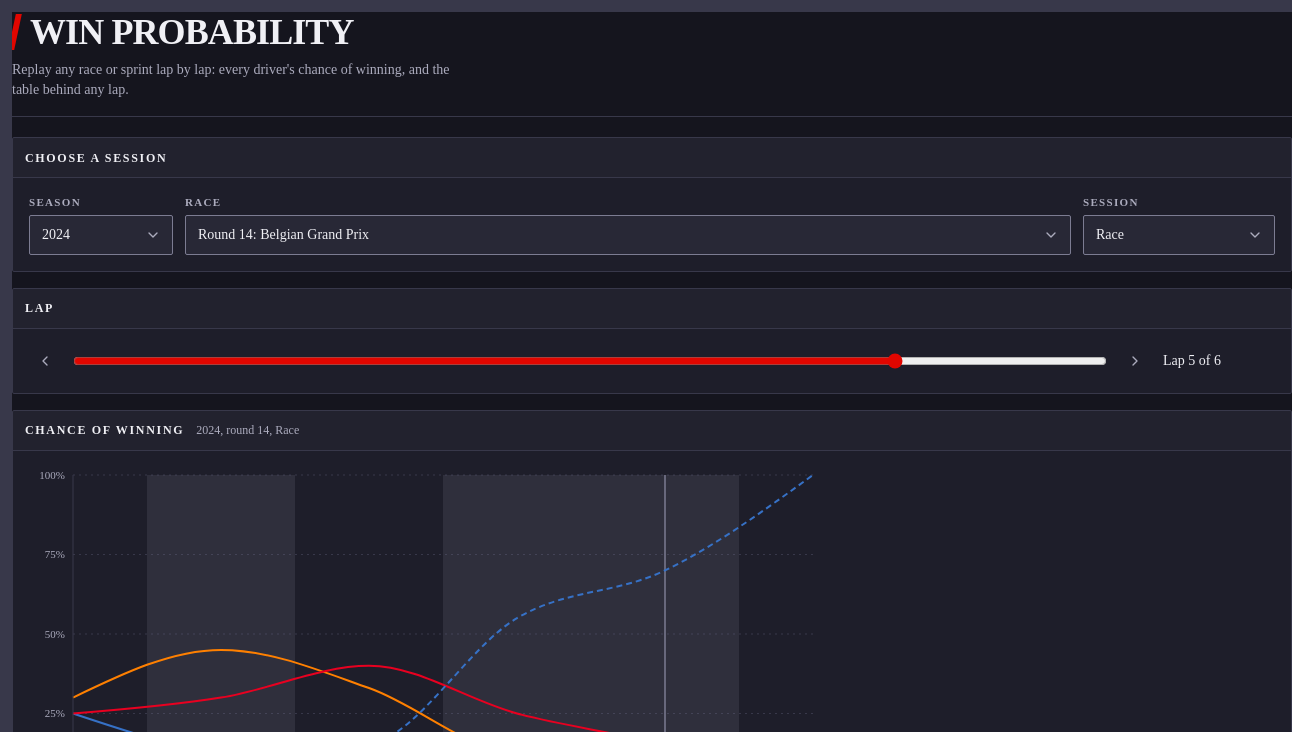
Test: WinProbPage › can step to the final lap, where the stepper stops
Expected: the text "Lap 5 of 6" is shown, [1163,352,1221,368]
Click the button named "Next lap" at (1135, 360), box [1119,344,1151,376]
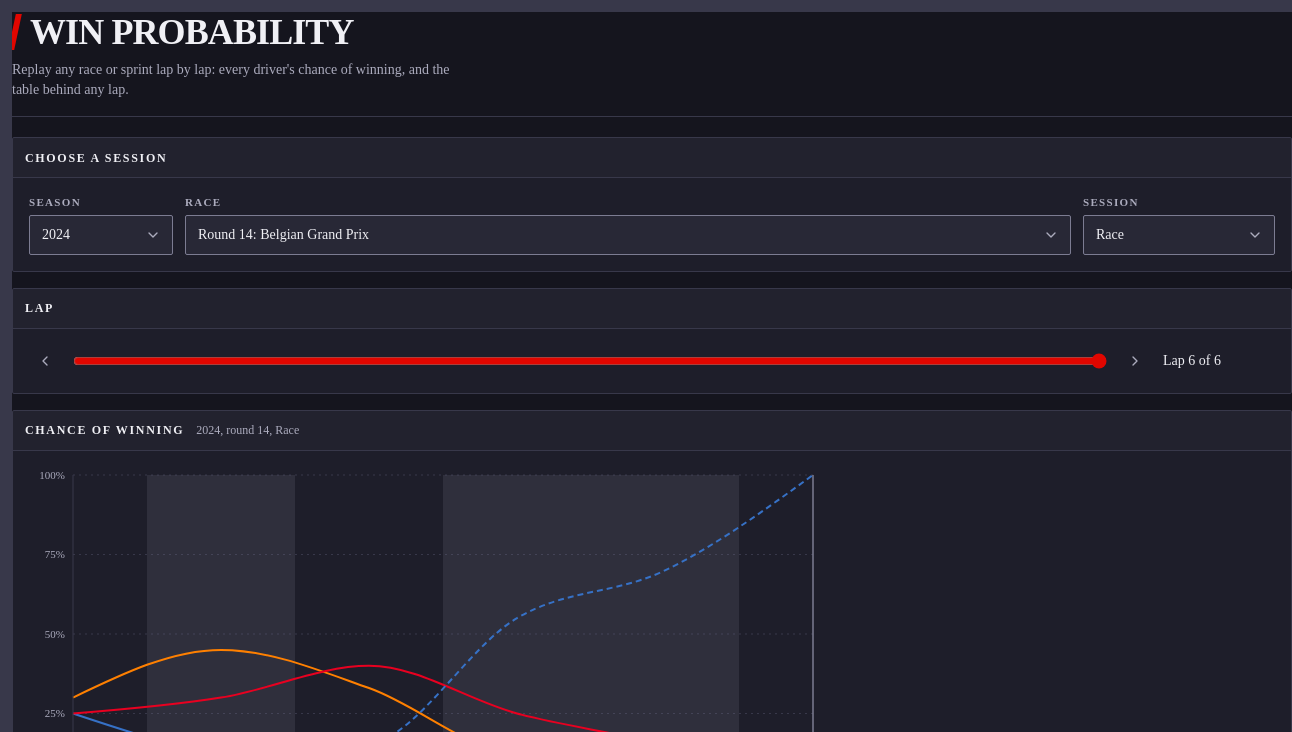
Expected: the text "Lap 6 of 6" is shown, [1163,352,1221,368]
